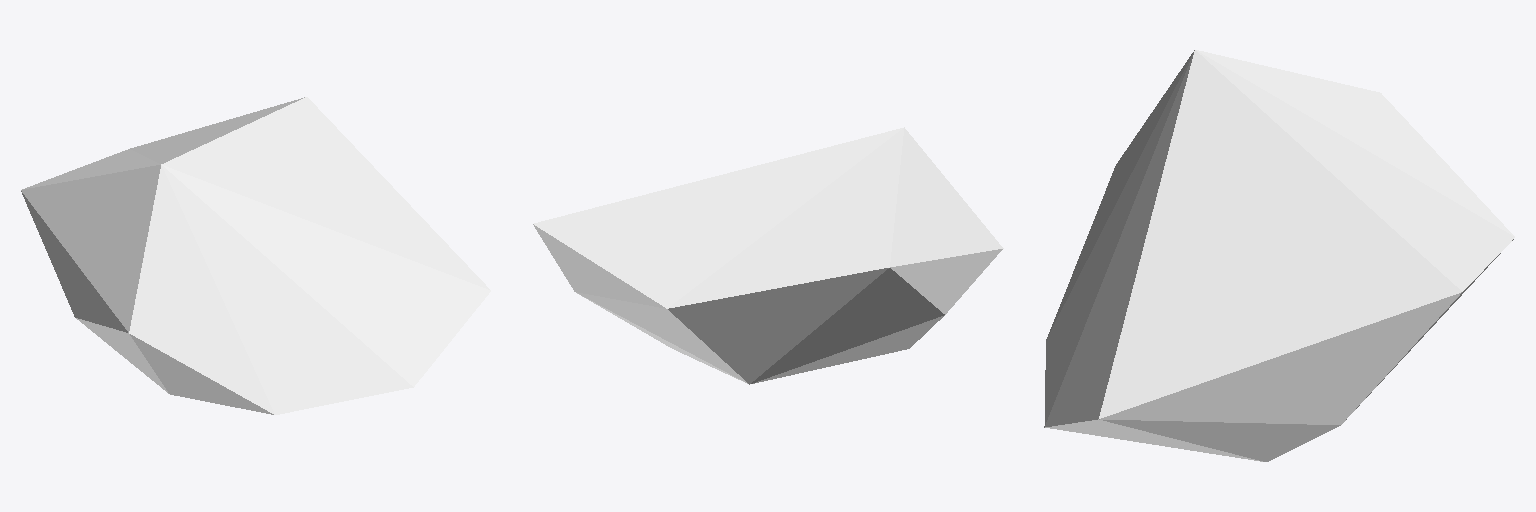
robot.urdf — hyq_lhleg_rom:
 <robot name="hyq_lhleg_rom">
  <link name="hyq_lhleg_link">
    <visual>
      <origin xyz="0 0 0" rpy="0 0 0" />
      <geometry>
        <mesh filename="package://hpp-rbprm-corba/meshes/hyq/hyq_lhleg_rom.stl"/>
      </geometry>
      <material name="white">
        <color rgba="1 1 1 1"/>
      </material>
    </visual>
    <collision>
      <origin xyz="0 0 0" rpy="0 0 0" />
      <geometry>
        <mesh filename="package://hpp-rbprm-corba/meshes/hyq/hyq_lhleg_rom.stl"/>
      </geometry>
    </collision>
  </link>
</robot>

--- Render facts (derived) ---
3 views of the same robot in one strip: view 1: azimuth 30°, elevation 25°; view 2: azimuth 150°, elevation 25°; view 3: azimuth 270°, elevation 25° (orthographic).
Model hyq_lhleg_rom with 1 links and 0 joints (none), rooted at hyq_lhleg_link, posed all joints at 0.
Links seen in each view (by area): view 1: hyq_lhleg_link; view 2: hyq_lhleg_link; view 3: hyq_lhleg_link.
Link boxes in pixels (box(x1,y1,x2,y2)): hyq_lhleg_link: box(21, 97, 490, 414); hyq_lhleg_link: box(533, 127, 1003, 384); hyq_lhleg_link: box(1044, 50, 1514, 461).
Bounding box of the posed robot: 0.9296 × 0.8915 × 0.6593 m (x, y, z).
1 mesh visuals loaded from 1 distinct referenced files (1 binary STL).